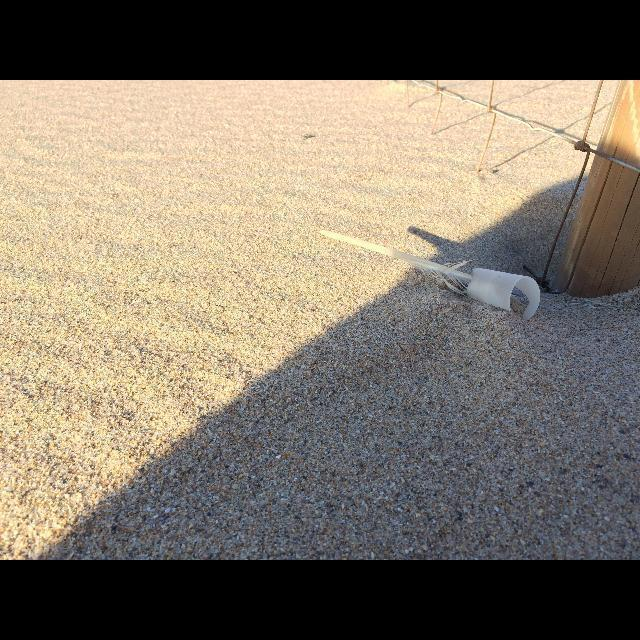Plastic: (466, 268, 540, 320)
